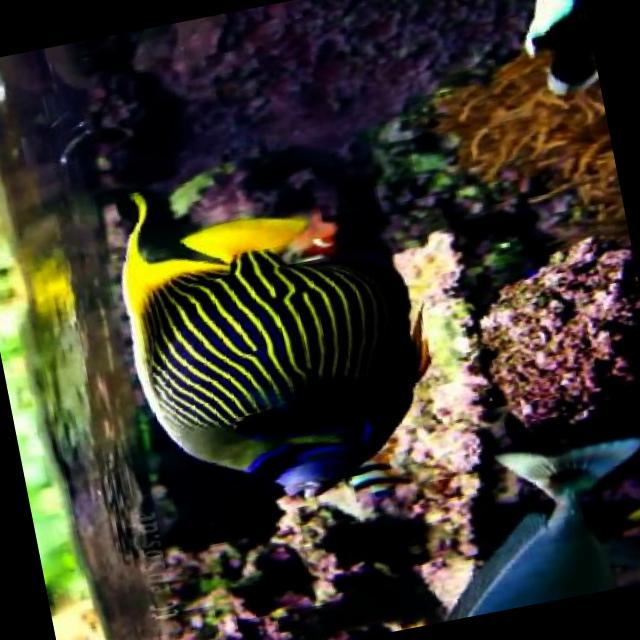AngelFish: (102, 145, 450, 524)
